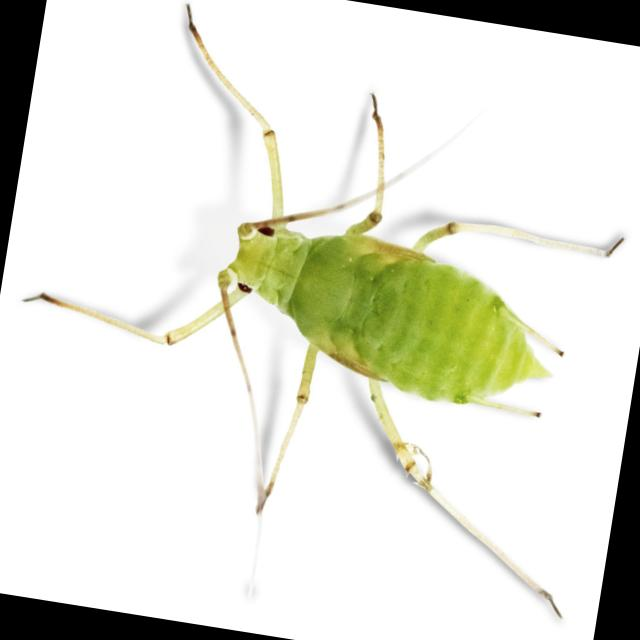Aphids: (20, 10, 640, 624)
